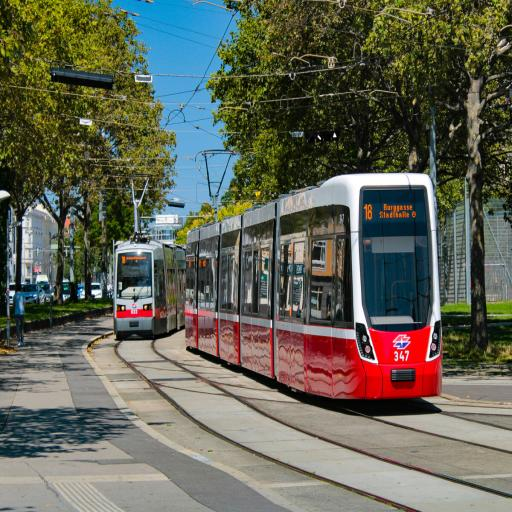Flexity: (186, 177, 444, 398)
ULF: (112, 238, 186, 338)
